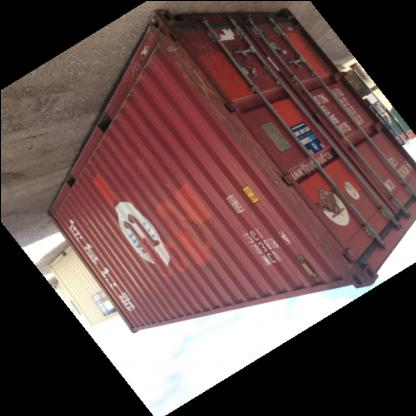Damage: (276, 188, 352, 264), (212, 122, 292, 176), (172, 34, 212, 118), (250, 16, 284, 53), (218, 14, 250, 44)
